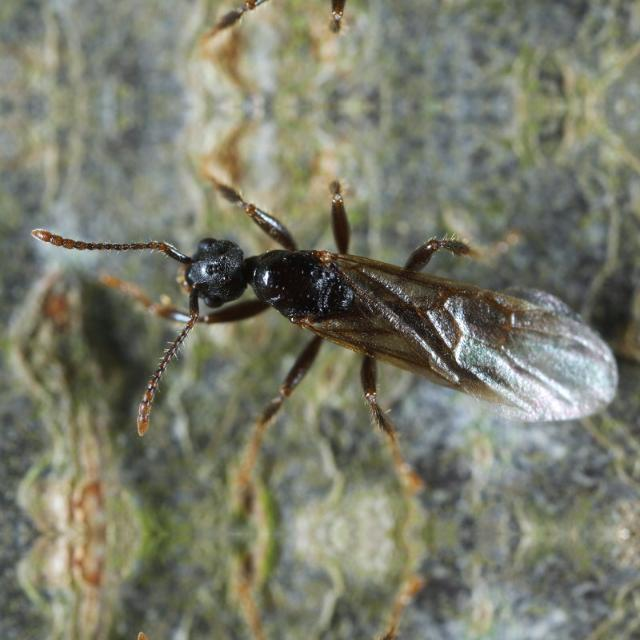Myrmica: (91, 170, 637, 470)
